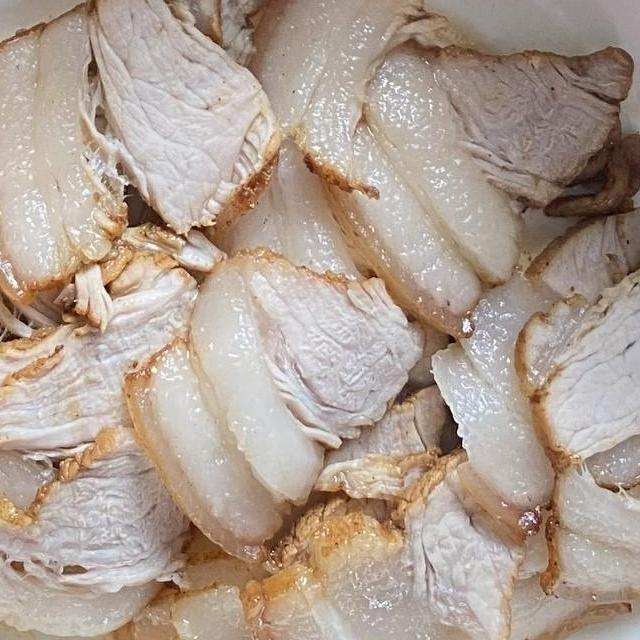thit heo: (293, 28, 640, 343), (114, 242, 431, 574), (0, 214, 234, 640), (229, 427, 639, 640), (0, 0, 286, 304), (407, 200, 640, 551), (90, 478, 488, 640), (509, 256, 640, 619), (237, 0, 434, 207), (0, 242, 103, 565), (61, 0, 318, 86), (0, 92, 34, 248)
